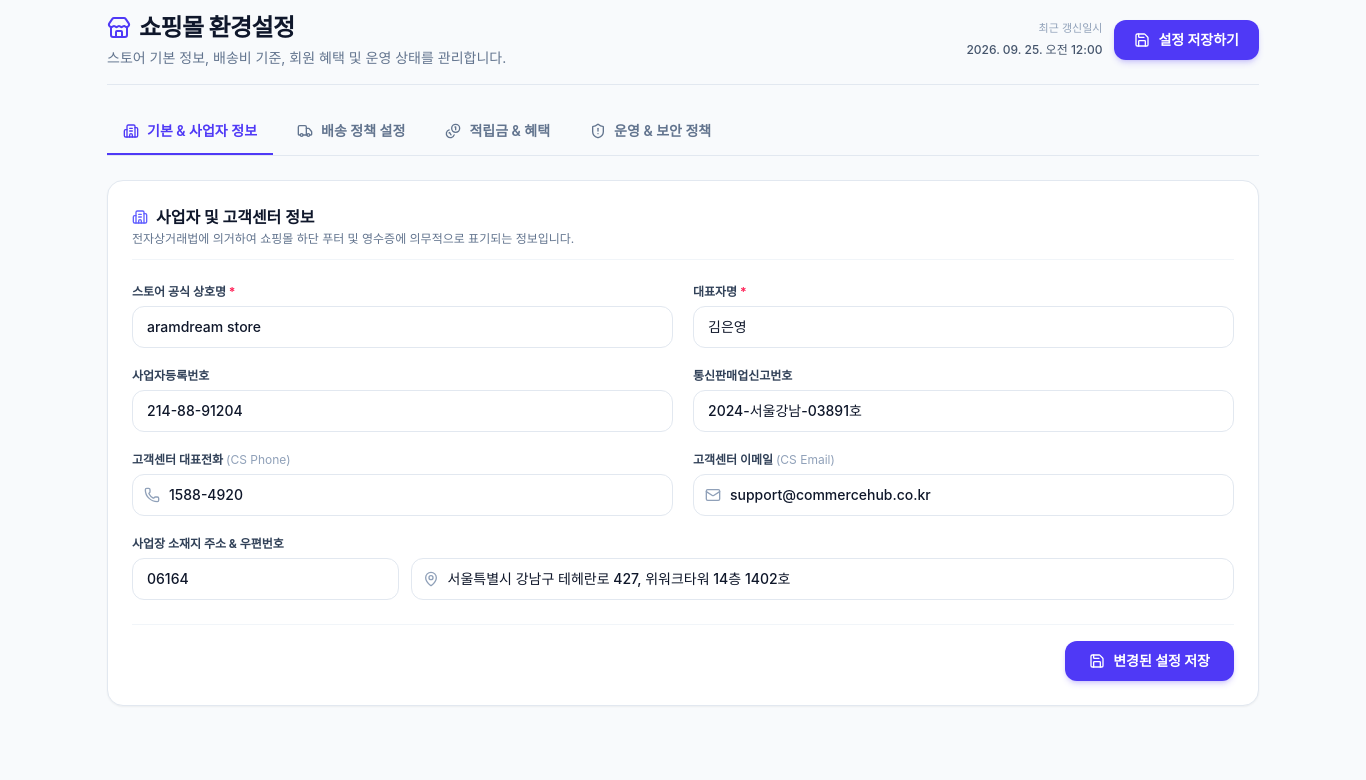
it: StoreSettingsViewer Component › 탭 클릭 시 해당 정책 설정 화면으로 전환된다
Note: 배송 정책 탭 클릭
Click the button "배송 정책 설정": (351, 132) [281,109,421,155]
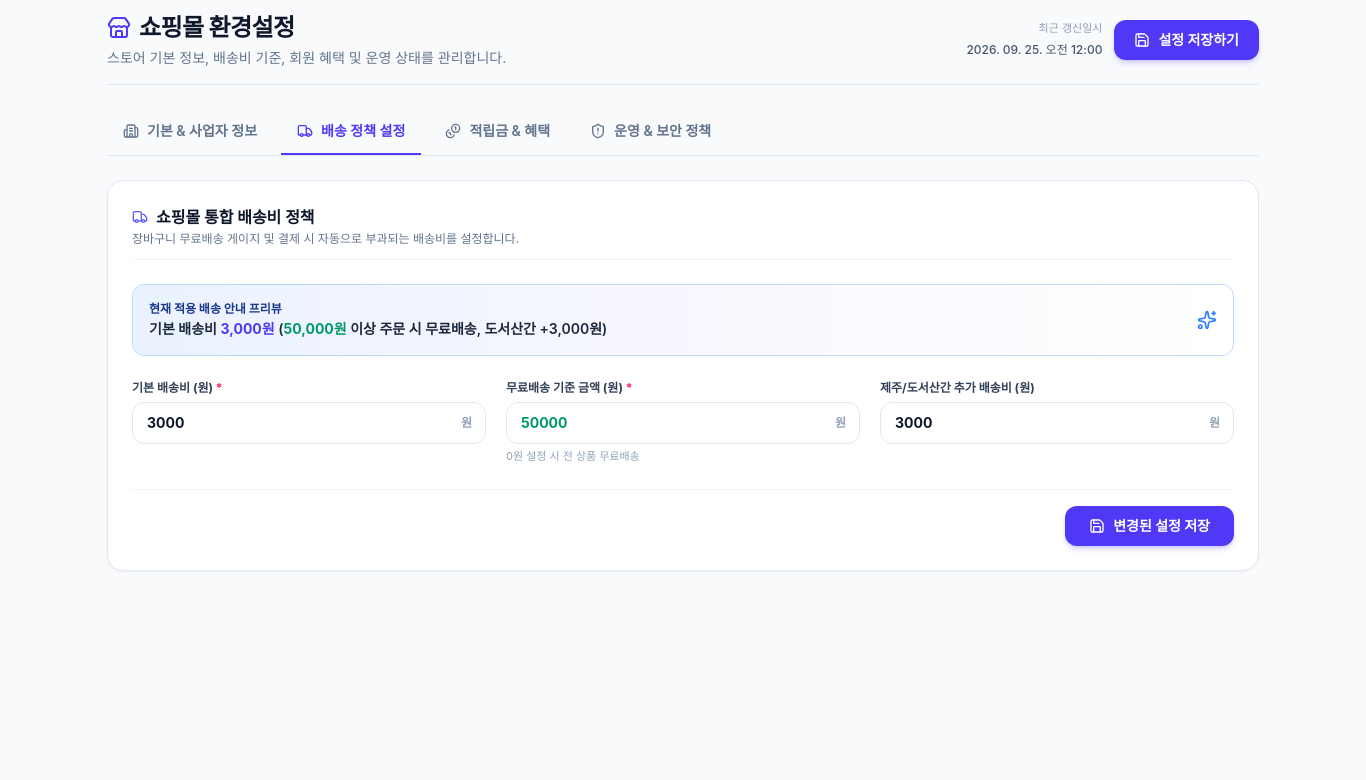
Result: the heading "쇼핑몰 통합 배송비 정책" is shown at [132,207,315,227]
Result: the number field labelled "기본 배송비 (원) *" holds "3000" at [132,402,486,444]
Result: the number field labelled "무료배송 기준 금액 (원) *" holds "50000" at [506,402,860,444]
Note: 적립금 & 혜택 탭 클릭
Click the button "적립금 & 혜택": (498, 132) [429,109,566,155]
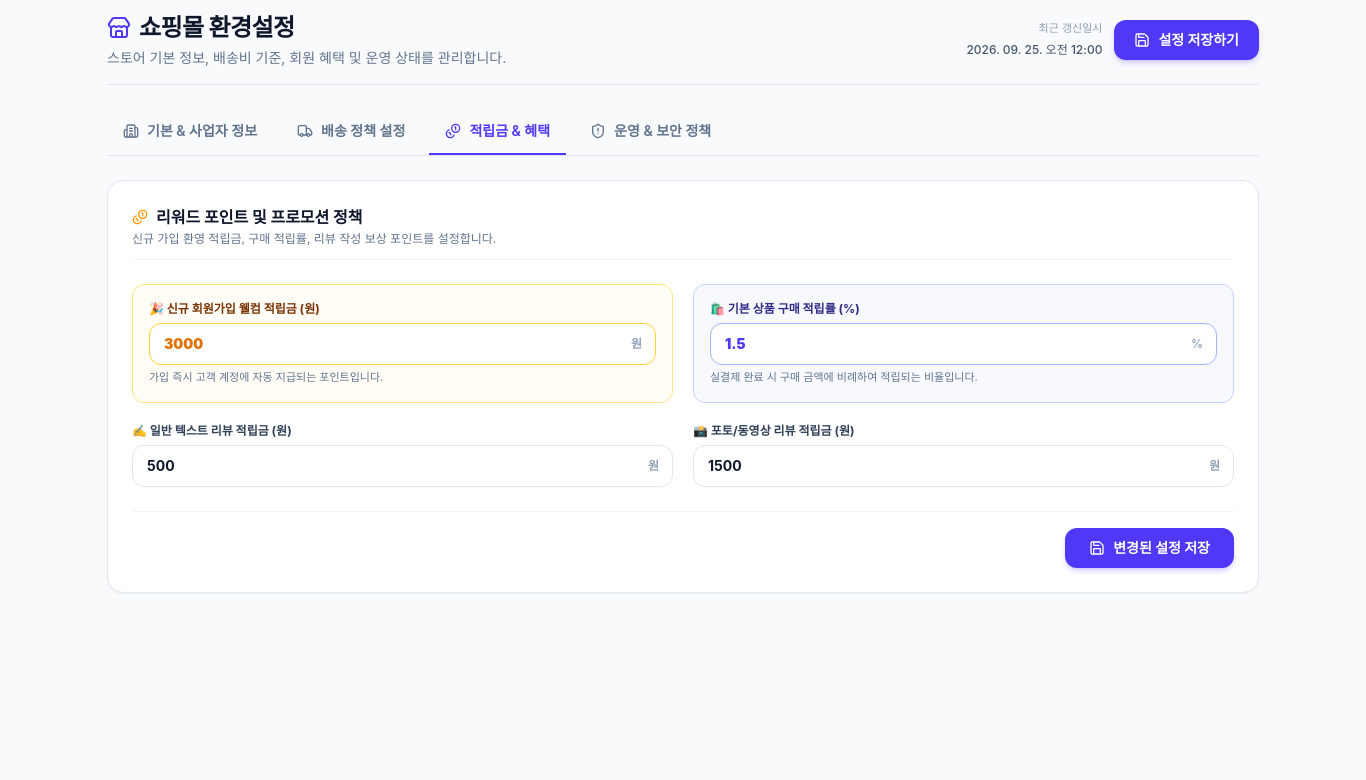
Result: the heading "리워드 포인트 및 프로모션 정책" is shown at [132,207,362,227]
Result: the number field labelled "🛍️ 기본 상품 구매 적립률 (%)" holds "1.5" at [710,323,1217,365]
Note: 운영 & 보안 탭 클릭
Click the button "운영 & 보안 정책": (651, 132) [574,109,727,155]
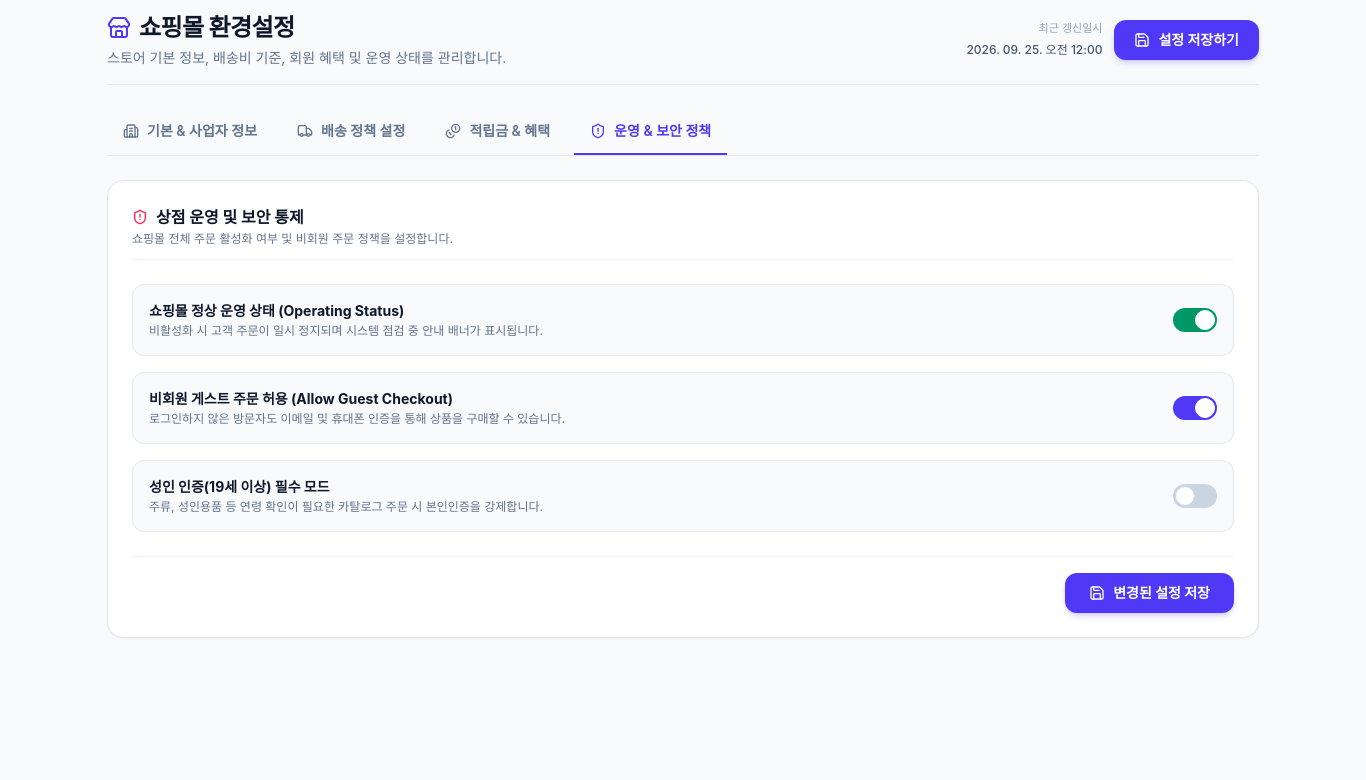
Result: the heading "상점 운영 및 보안 통제" is shown at [132,207,304,227]
